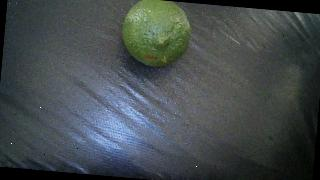DESECHO: (119, 0, 193, 68)
